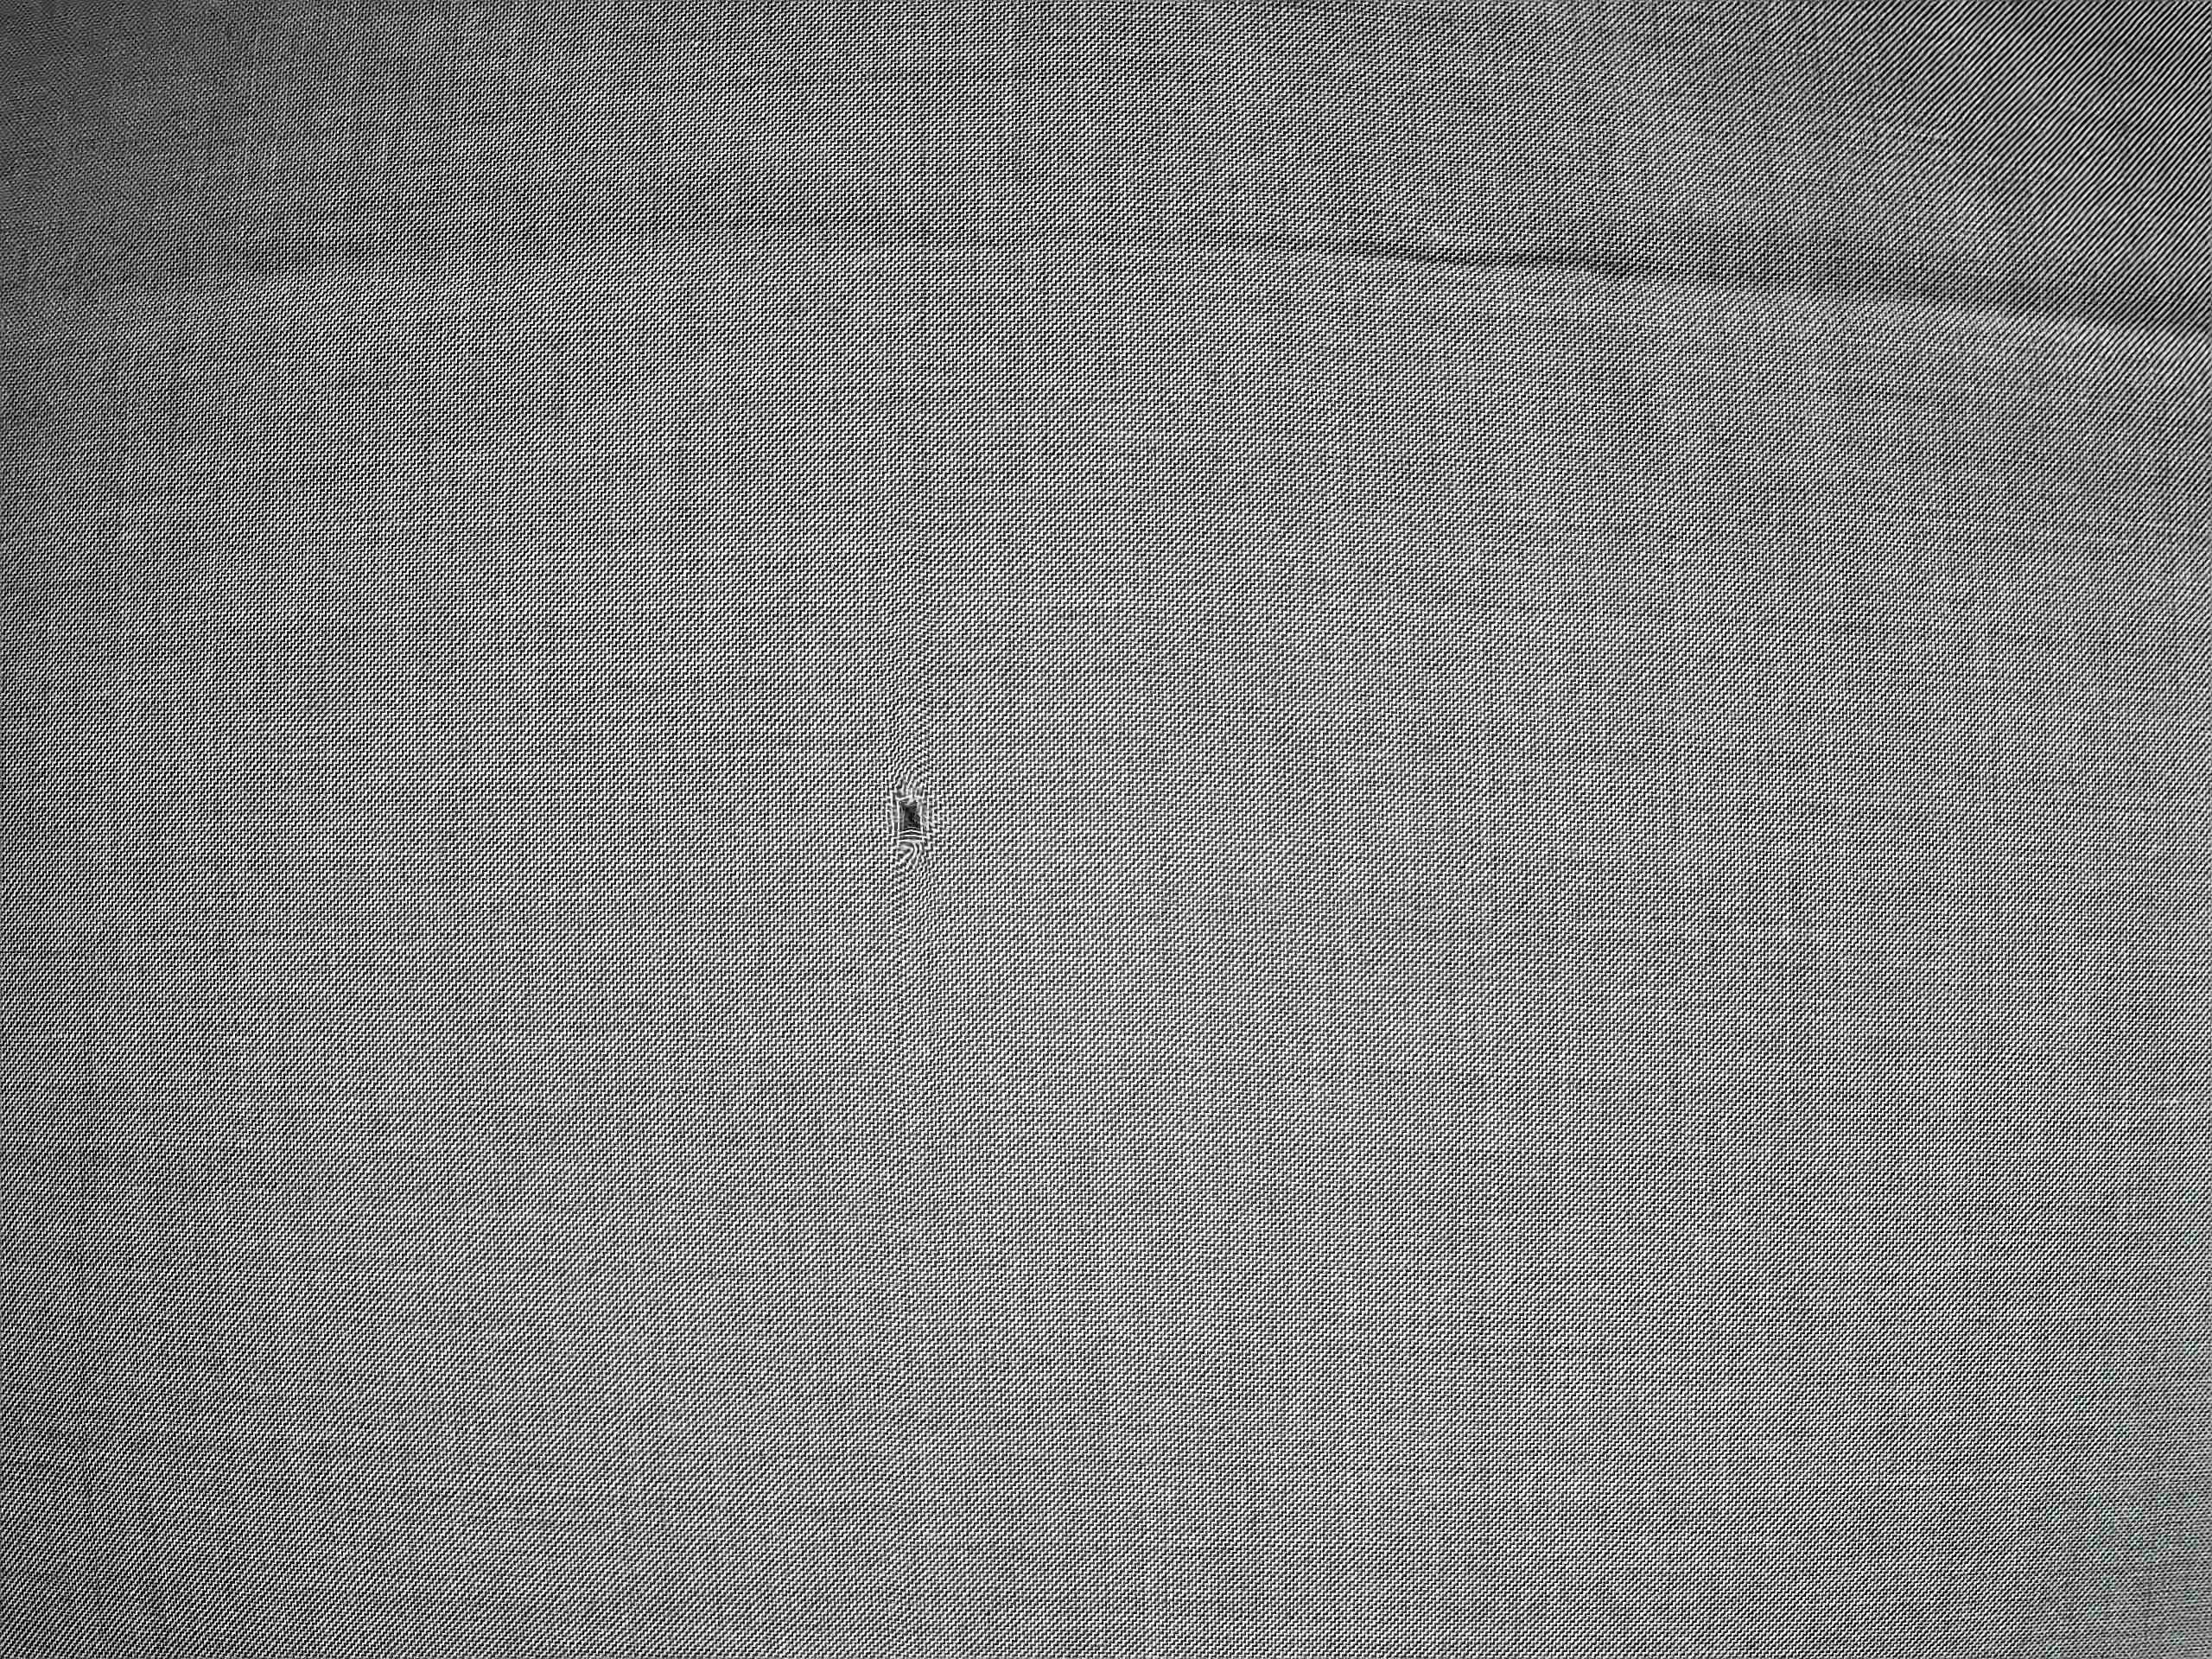brushed-hole: (876, 770, 949, 863)
